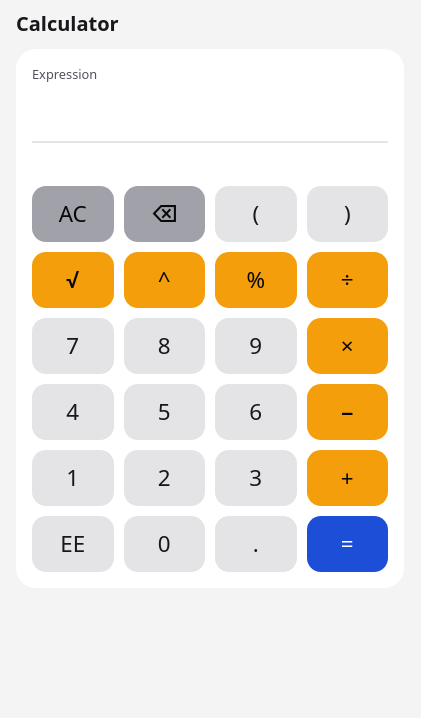
Scenario: keyboard › puts a negative result in brackets when an operator is typed
Expected: the button named "equals" is shown, [306,516,388,572]
Type "-1.5*2" into the field labelled "Expression".
click(210, 115); type("-1.5*2")  # box [32,87,388,143]
Then press Enter
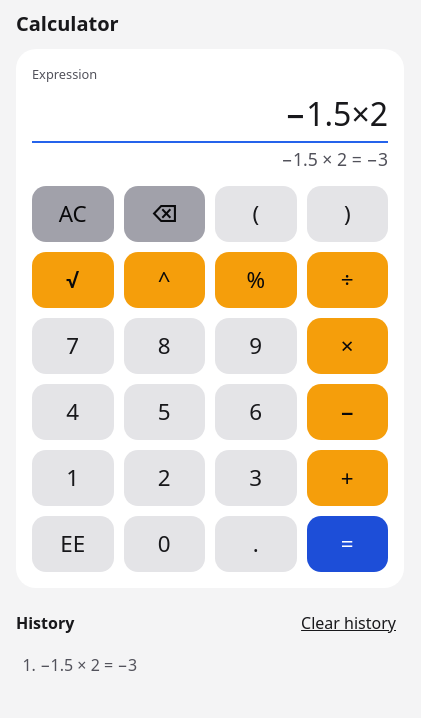
Expected: the message shows "= −3", [281,147,388,171]
Type "^2" into the field labelled "Expression".
click(210, 115); type("^2")  # box [32,87,388,143]
Then press Enter
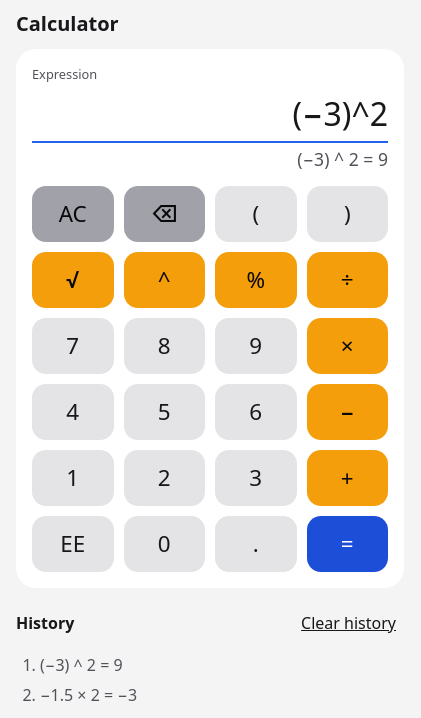
Expected: the message reads "(−3) ^ 2 = 9", [297,147,388,171]
